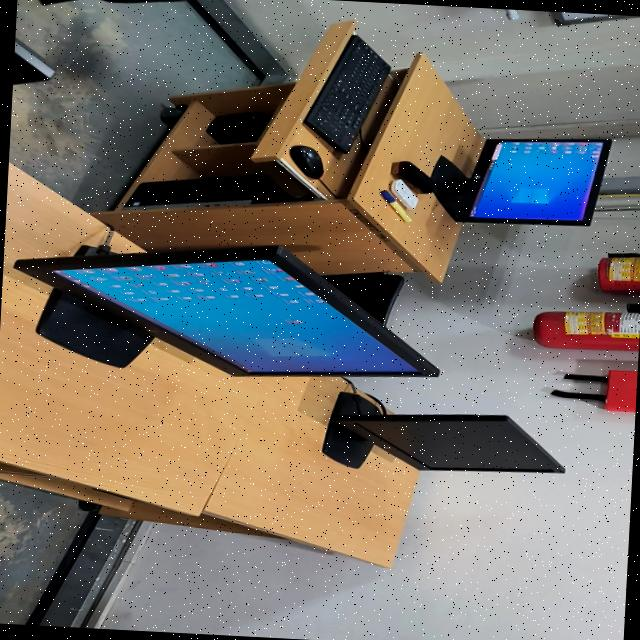Chair: (322, 272, 404, 325)
Cpu: (123, 175, 292, 209)
Fire Extinguisher: (532, 310, 640, 351), (597, 254, 640, 294)
Keyboard: (303, 35, 390, 154)
Monitor: (14, 244, 438, 376), (322, 391, 564, 473), (431, 139, 610, 226)
Mouse: (289, 146, 323, 179)
